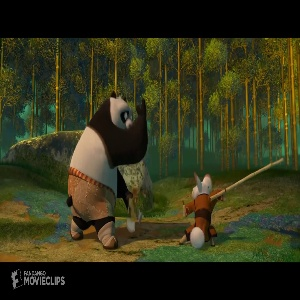po: (63, 88, 151, 249)
shifu: (180, 171, 220, 248)
